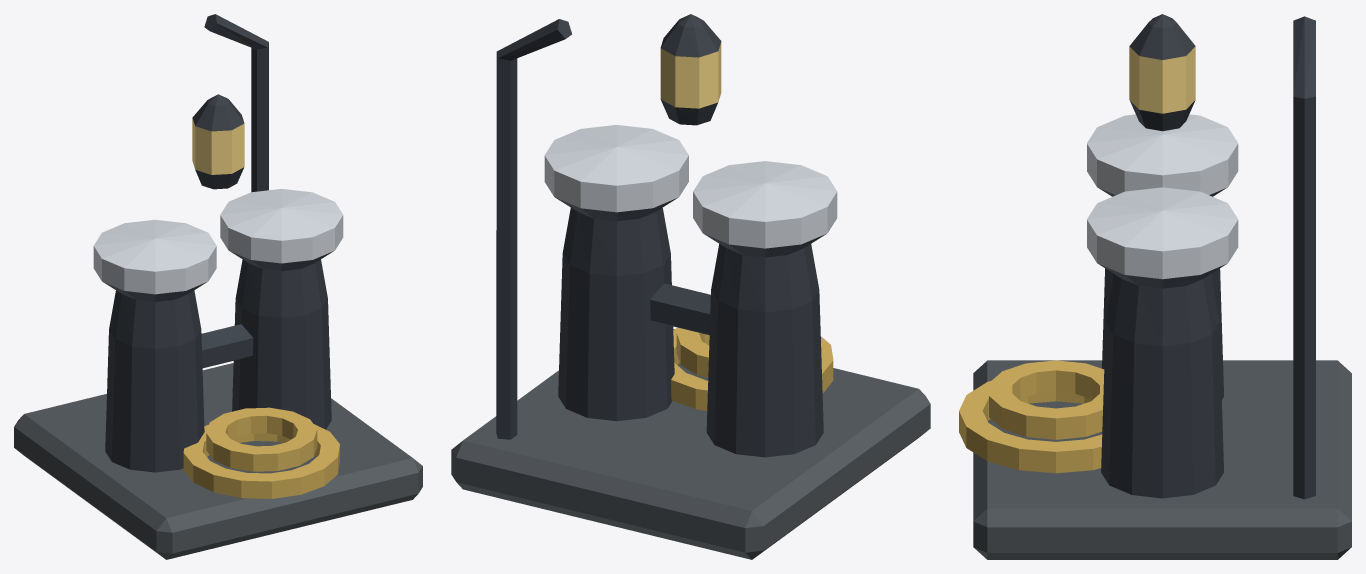
Rendered from MooringBollard.obj.
3 renders of one model, left to right at view 1: azimuth 30°, elevation 25°; view 2: azimuth 150°, elevation 25°; view 3: azimuth 270°, elevation 25°, orthographic. The views are drawn at different scales.
Size of the model in its own units: 1.6 by 2.34 by 1.66.
